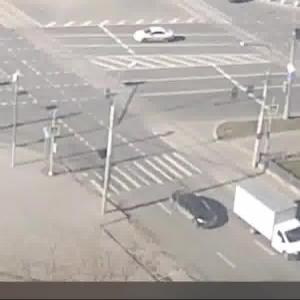car: (234, 186, 300, 266), (168, 188, 221, 233), (136, 27, 176, 46)
